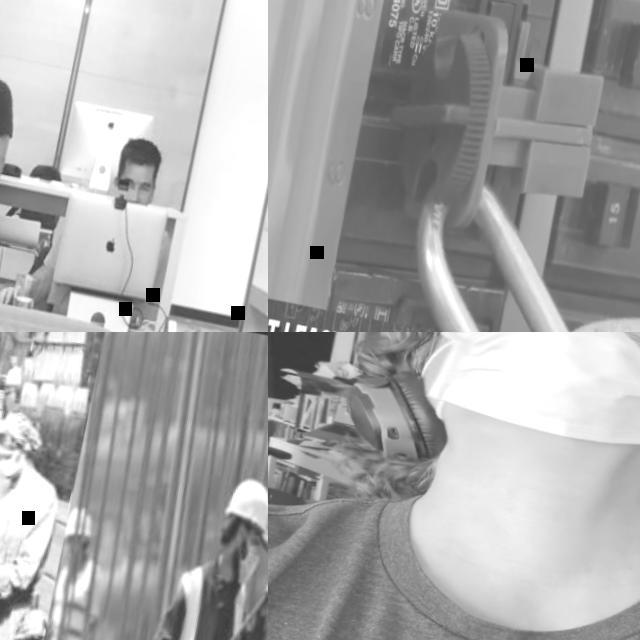helmet: (214, 478, 268, 537), (65, 506, 99, 546)
vest: (144, 562, 265, 640), (41, 561, 103, 640)
